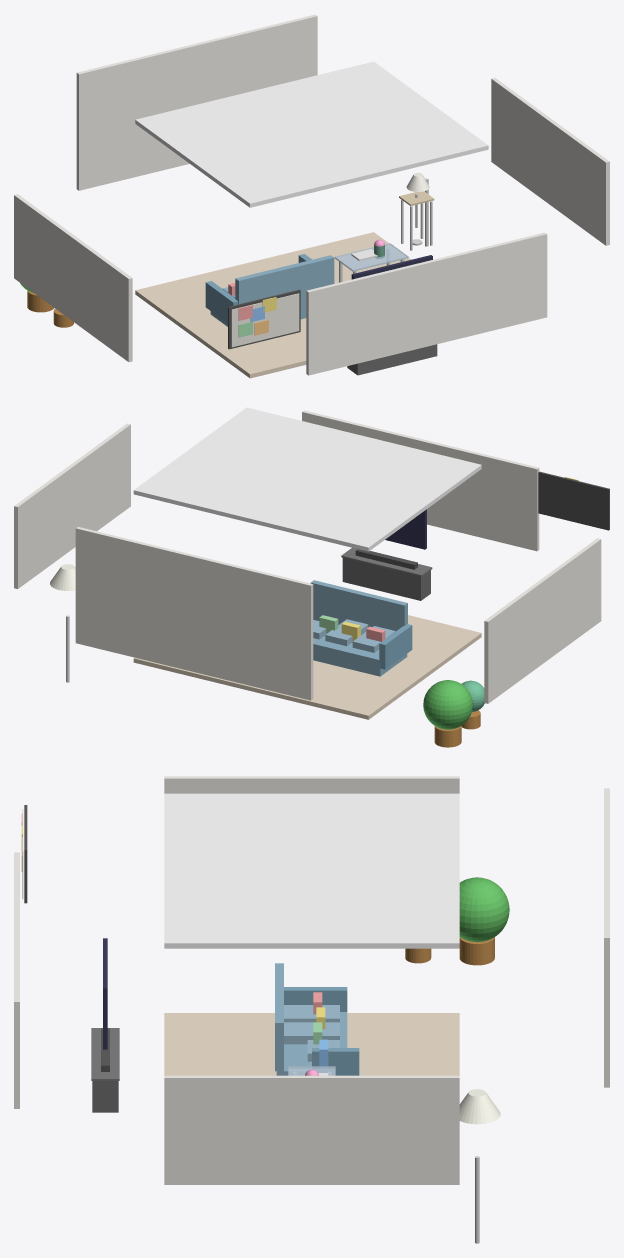
The model's file is room_living.glb.
The picture shows the model from 3 angles, top to bottom: view 1: azimuth 30°, elevation 25°; view 2: azimuth 150°, elevation 25°; view 3: azimuth 270°, elevation 25°; orthographic projection. The views are drawn at different scales.
Visible parts, largest first — view 1: Ceiling, BackWall, FrontWall_T, LeftWall, RightWall, Floor, SofaBack, ArtCanvas, TVStand, CTop, SofaArmL, ArtFrame; view 2: FrontWall_T, Ceiling, LeftWall, RightWall, BackWall, Floor, SofaBack, ArtFrame, TVStand, Plant1, SofaBase, SofaArmL (+5 smaller); view 3: Ceiling, RightWall, Floor, LeftWall, Plant1, FrontWall_T, BackWall, TVTop, FShade, SofaArmL, SofaArmR, SofaBack (+3 smaller).
Part boxes in pixels (x1,y1,x2,y2): Ceiling: (135,61,488,207); BackWall: (306,232,547,375); FrontWall_T: (76,14,317,190); LeftWall: (14,194,132,362); RightWall: (491,78,609,245); Floor: (135,232,410,378); SofaBack: (235,255,334,304); ArtCanvas: (231,293,299,347); TVStand: (347,344,437,375); CTop: (334,243,408,271); SofaArmL: (205,281,238,323); ArtFrame: (228,289,300,349); FrontWall_T: (75,527,313,700); Ceiling: (133,407,481,551); LeftWall: (484,538,601,703); RightWall: (14,423,130,588); BackWall: (302,410,539,551); Floor: (133,615,481,719); SofaBack: (310,580,407,631); ArtFrame: (538,471,609,530); TVStand: (342,558,430,600); Plant1: (423,680,472,729); SofaBase: (313,635,407,676); SofaArmL: (379,624,412,669); Ceiling: (164,793,459,948); RightWall: (164,1075,459,1184); Floor: (164,1013,459,1075); LeftWall: (164,776,459,793); Plant1: (459,877,509,942); FrontWall_T: (604,788,609,1087); BackWall: (14,852,19,1108); TVTop: (91,1028,119,1080); FShade: (459,1089,500,1124); SofaArmL: (284,987,347,1011); SofaArmR: (312,1048,359,1075); SofaBack: (275,963,283,1071).
Bounding box in the file's own units: 1210 × 500 × 1010.
